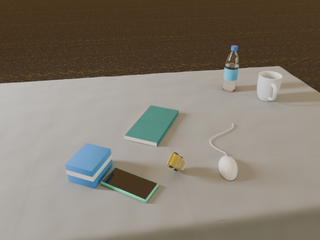book: (125, 106, 178, 146)
bottle: (222, 46, 239, 92)
box: (65, 143, 112, 188)
cup: (257, 71, 282, 101)
mouse: (219, 156, 237, 180)
phone: (101, 168, 158, 202)
toy_car: (167, 152, 186, 171)
